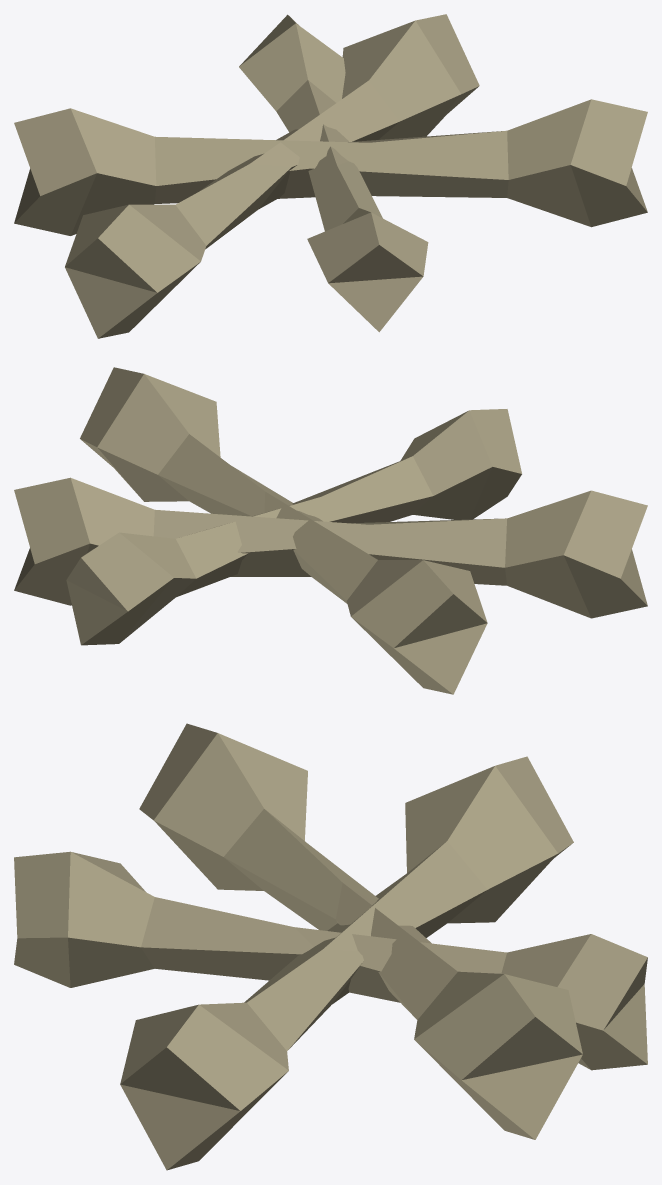
The model's file is bone_02.fbx.
3 renders of one model, top to bottom at view 1: azimuth 30°, elevation 25°; view 2: azimuth 150°, elevation 25°; view 3: azimuth 270°, elevation 25°, orthographic. The views are drawn at different scales.
Parts seen in each view (by area): view 1: bone_02; view 2: bone_02; view 3: bone_02.
Part boxes in pixels (left/top/right/bottom): bone_02: left=14, top=14, right=647, bottom=338; bone_02: left=14, top=367, right=647, bottom=694; bone_02: left=14, top=723, right=647, bottom=1170.
Bounding box in the file's own units: 1.89 × 0.421 × 1.54.
